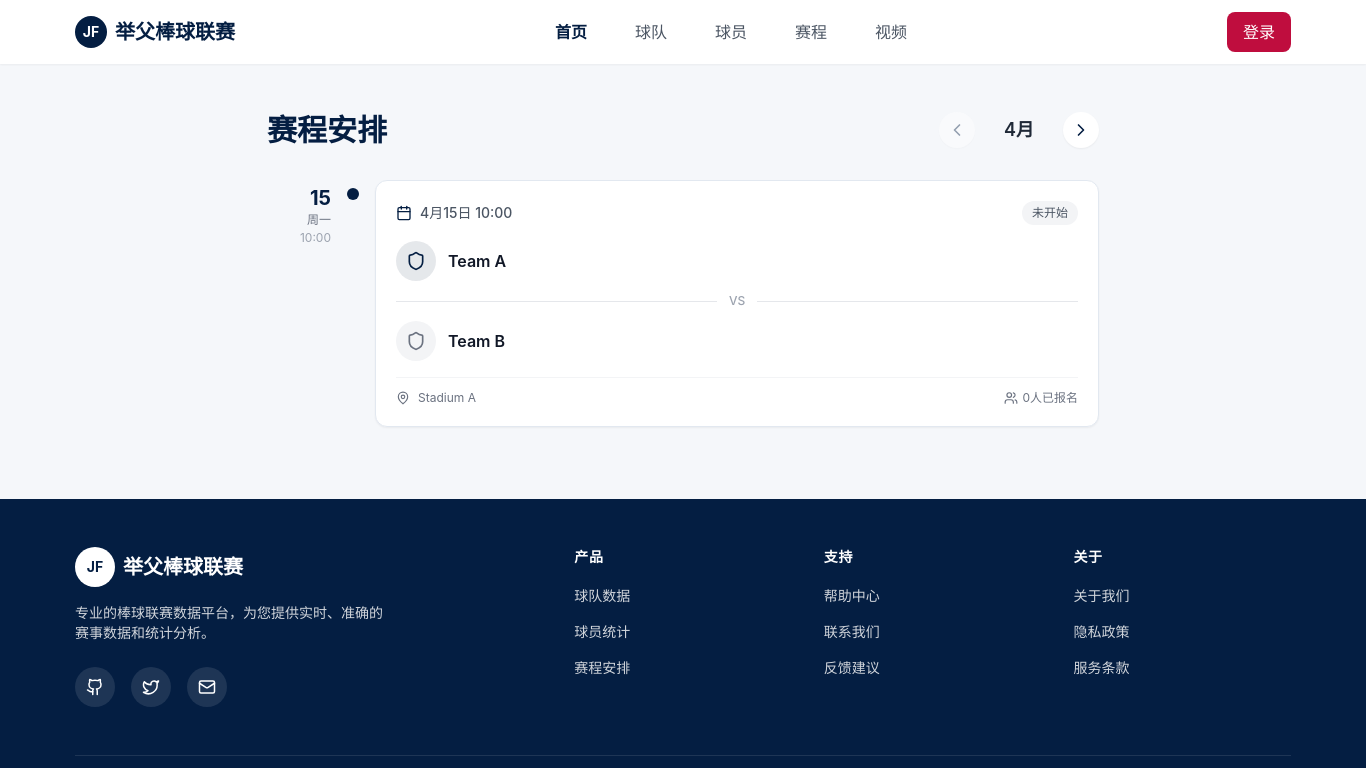
Test case: GameSchedulePage › renders games timeline and allows month navigation
This screenshot has width=1366, height=768.
Expected: the text "4月" is shown, [1004,119,1034,140]
Expected: the text "Team A" is shown, [448,249,506,273]
Click the button named "下个月": [1081, 130] box [1063,112,1099,148]
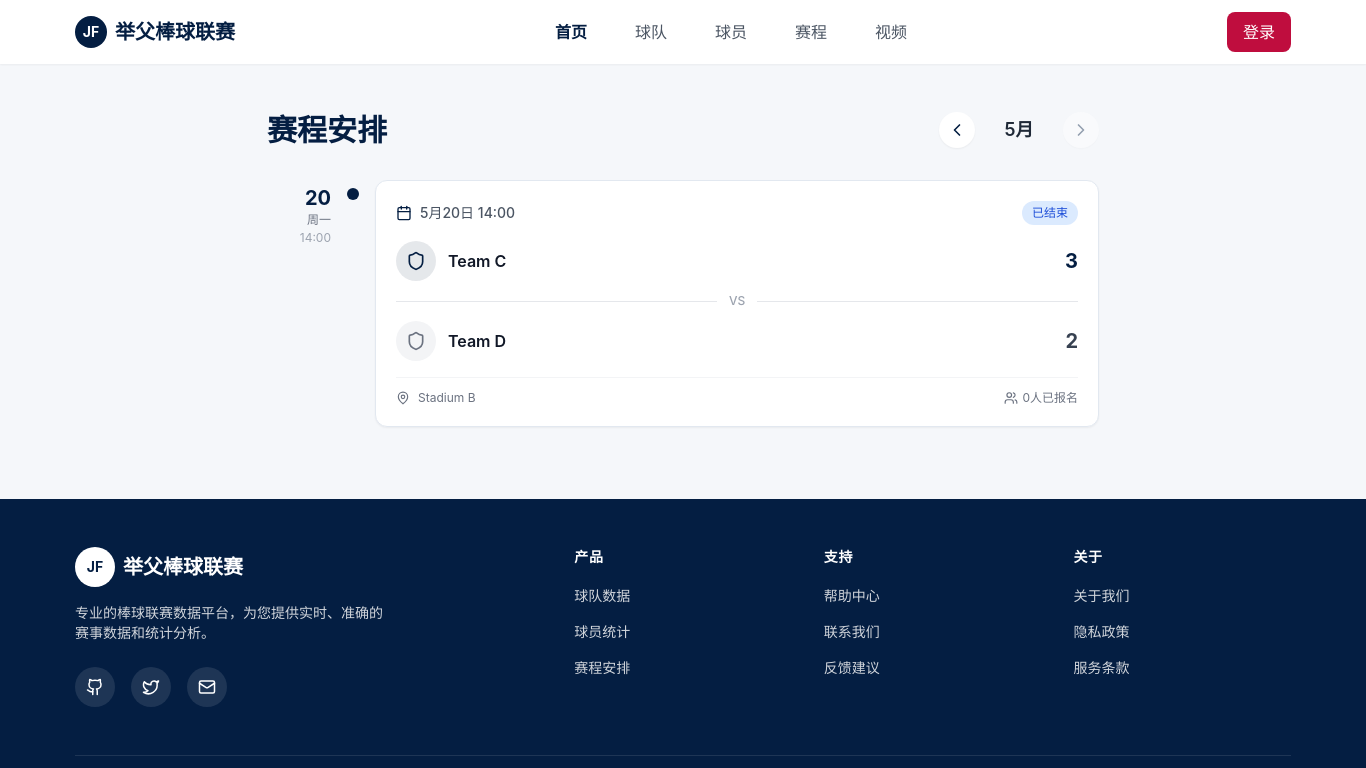
Expected: the text "5月" is shown, [1004,119,1034,140]
Expected: the text "Team C" is shown, [448,249,506,273]
Expected: the text "Team D" is shown, [448,329,506,353]
Click the button named "上个月": [957, 130] box [939,112,975,148]
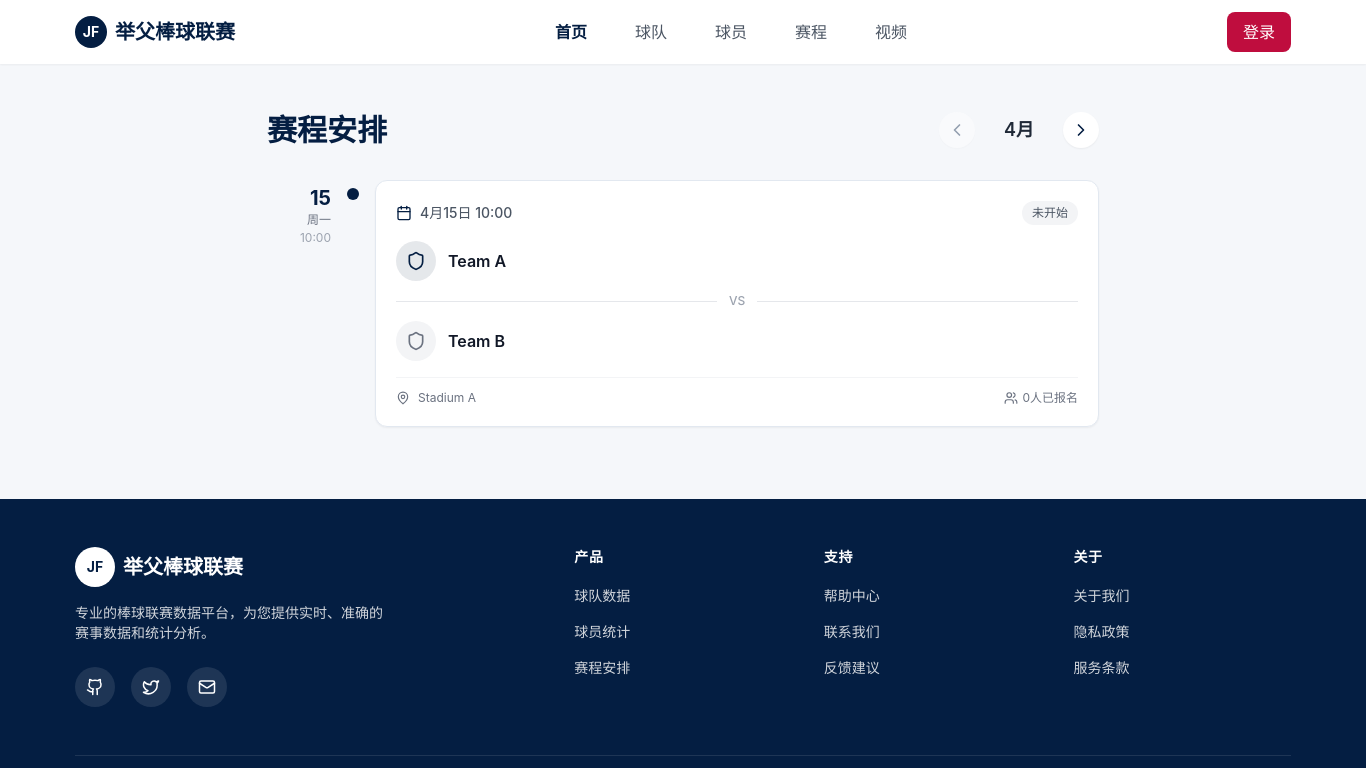
Expected: the text "4月" is shown, [1004,119,1034,140]
Expected: the text "Team A" is shown, [448,249,506,273]
